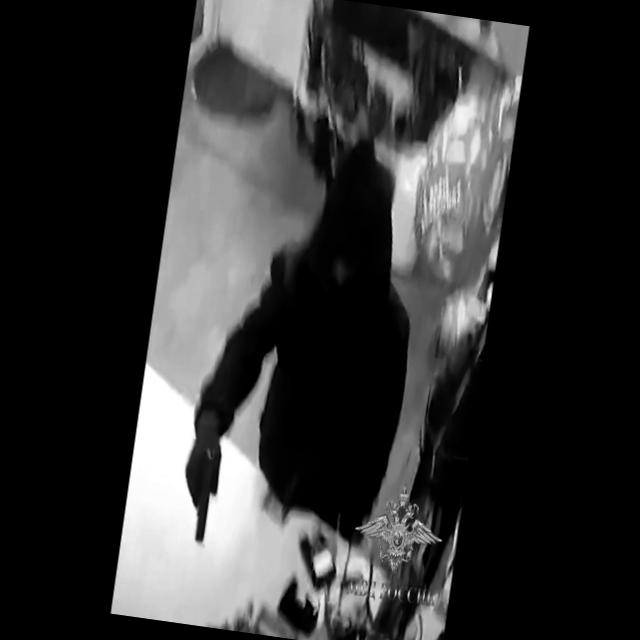gun: (180, 425, 226, 540)
person with a gun: (176, 146, 435, 562)
